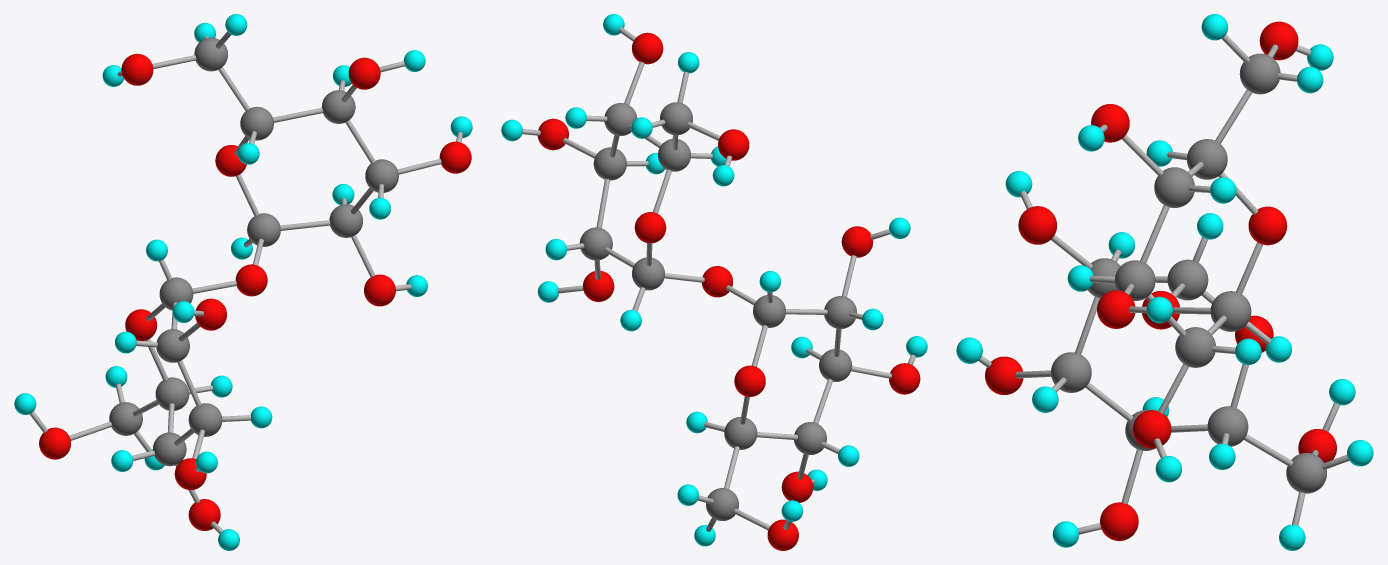
The model's file is α,α-trehalose.glb.
3 renders of one model, left to right at view 1: azimuth 30°, elevation 25°; view 2: azimuth 150°, elevation 25°; view 3: azimuth 270°, elevation 25°, orthographic. The views are drawn at different scales.
Visible parts, largest first — view 1: CMAtom_2, CMAtom_9, CMAtom_10, CMAtom_1, CMAtom_13, CMAtom_33, CMAtom_34, CMAtom_14, CMAtom_12, CMAtom_11, CMAtom_32, CMAtom_29 (+11 smaller); view 2: CMAtom_9, CMAtom_14, CMAtom_32, CMAtom_10, CMAtom_11, CMAtom_33, CMAtom_0, CMAtom_2, CMAtom_1, CMAtom_13, CMAtom_34, CMAtom_12 (+11 smaller); view 3: CMAtom_14, CMAtom_10, CMAtom_12, CMAtom_34, CMAtom_2, CMAtom_9, CMAtom_0, CMAtom_13, CMAtom_33, CMAtom_11, CMAtom_7, CMAtom_39 (+31 smaller).
Boxes of the visible parts, <box> form: CMAtom_2: <box>188,403,222,436</box>; CMAtom_9: <box>247,213,280,246</box>; CMAtom_10: <box>329,204,362,237</box>; CMAtom_1: <box>156,329,189,362</box>; CMAtom_13: <box>240,106,273,140</box>; CMAtom_33: <box>155,377,189,410</box>; CMAtom_34: <box>109,402,142,435</box>; CMAtom_14: <box>194,37,227,71</box>; CMAtom_12: <box>321,90,355,123</box>; CMAtom_11: <box>365,159,398,192</box>; CMAtom_32: <box>153,432,186,466</box>; CMAtom_29: <box>121,53,153,85</box>; CMAtom_9: <box>632,257,664,290</box>; CMAtom_14: <box>660,102,692,135</box>; CMAtom_32: <box>794,422,826,454</box>; CMAtom_10: <box>579,227,612,260</box>; CMAtom_11: <box>593,147,626,180</box>; CMAtom_33: <box>724,417,757,449</box>; CMAtom_0: <box>753,295,785,327</box>; CMAtom_2: <box>819,349,852,381</box>; CMAtom_1: <box>824,296,856,328</box>; CMAtom_13: <box>658,138,690,171</box>; CMAtom_34: <box>706,488,738,520</box>; CMAtom_12: <box>604,103,637,135</box>; CMAtom_14: <box>1239,53,1280,94</box>; CMAtom_10: <box>1175,327,1215,367</box>; CMAtom_12: <box>1154,167,1194,207</box>; CMAtom_34: <box>1286,453,1326,493</box>; CMAtom_2: <box>1051,352,1091,392</box>; CMAtom_9: <box>1210,291,1251,331</box>; CMAtom_0: <box>1167,259,1208,300</box>; CMAtom_13: <box>1187,139,1227,179</box>; CMAtom_33: <box>1207,406,1248,446</box>; CMAtom_11: <box>1114,260,1155,300</box>; CMAtom_7: <box>1018,206,1056,244</box>; CMAtom_39: <box>1100,502,1138,540</box>.
Bounding box in the file's own units: 8 × 9.52 × 6.3.
